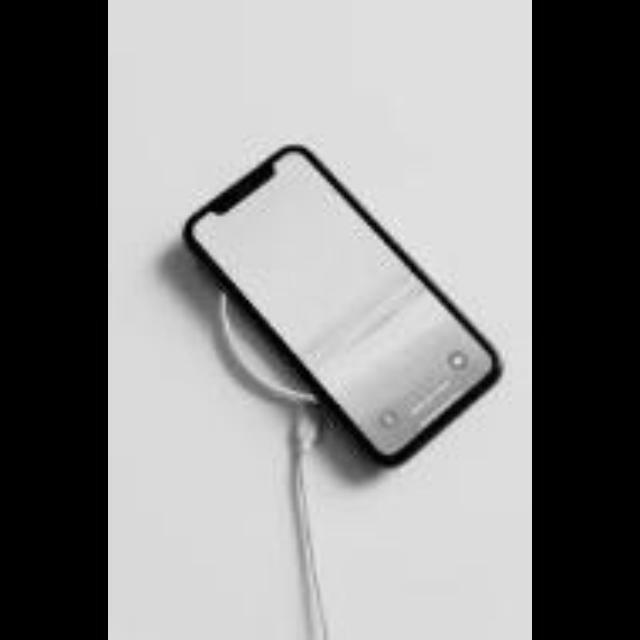fake: (186, 148, 500, 472)
